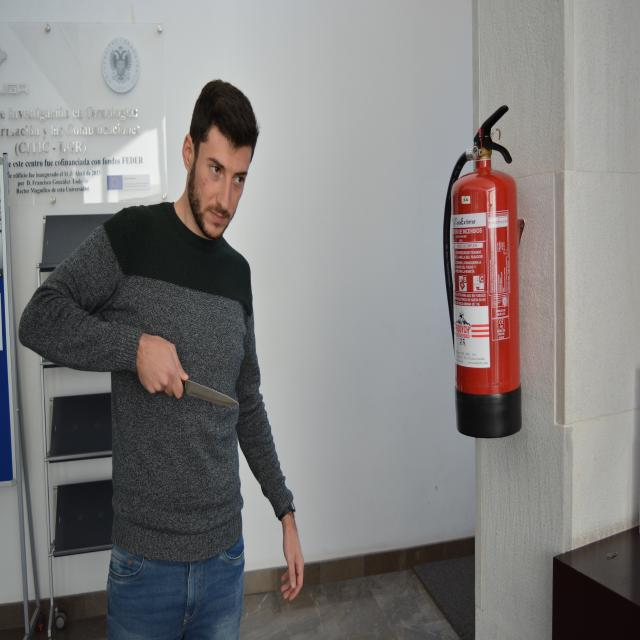knife: (183, 377, 246, 413)
